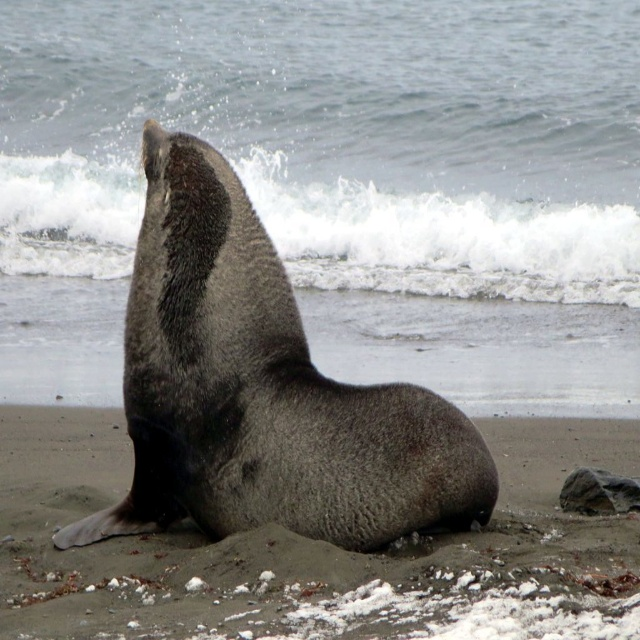Harbor seal: (48, 114, 499, 548)
